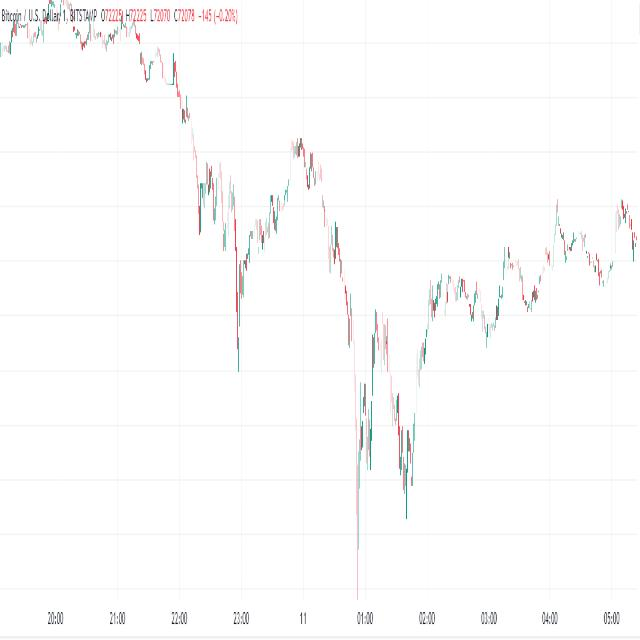Ascending-Triangle: (348, 244, 560, 580), (231, 181, 296, 405)
